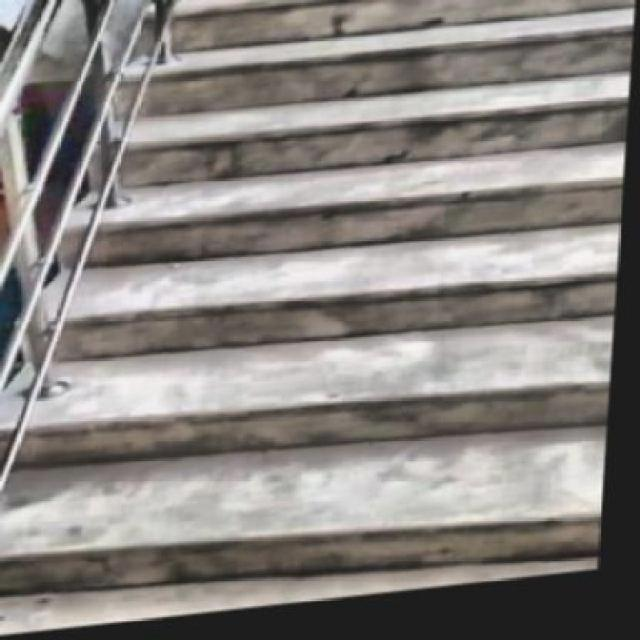stair: (0, 0, 638, 618)
